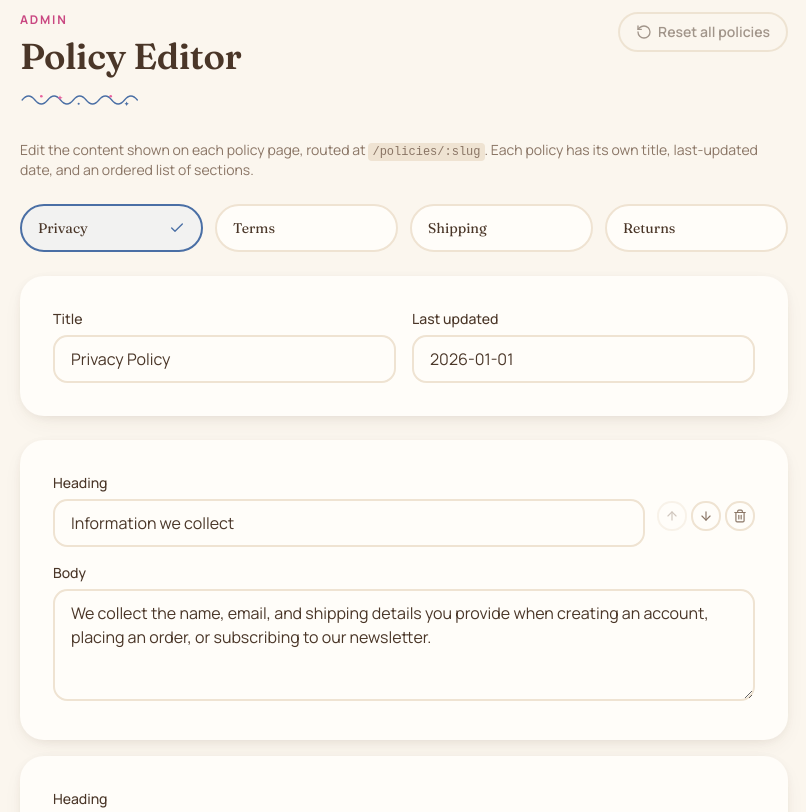
Test case: PolicyEditor › blocks saving a policy with zero sections
The width and height of the screenshot is (806, 812).
Click the button named "Remove Information we collect" at (740,516), box x1=725 y1=501 x2=755 y2=531
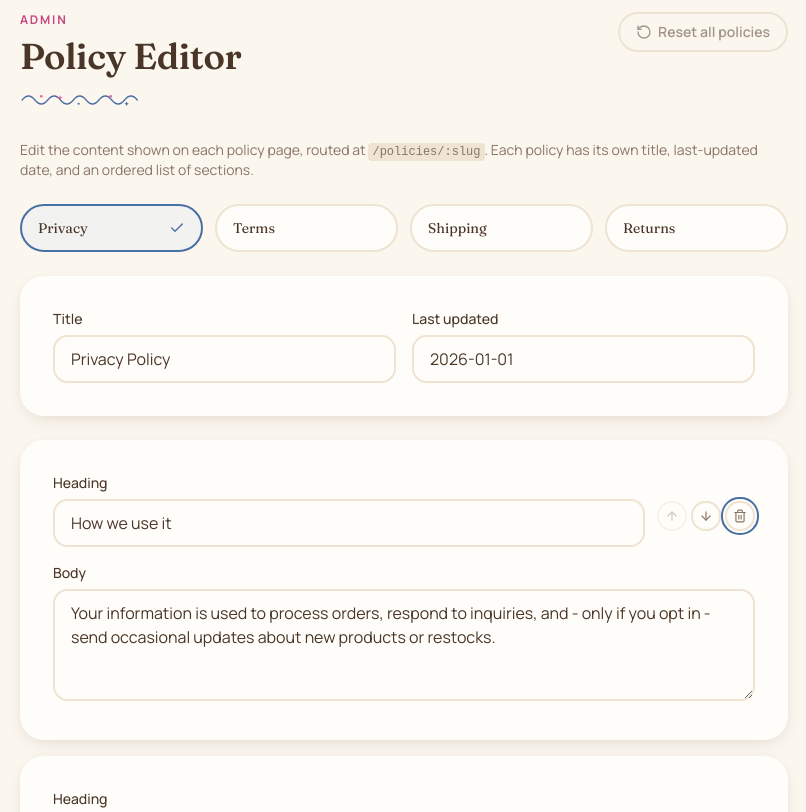
Click the button named "Remove How we use it" at (740,516), box x1=725 y1=501 x2=755 y2=531
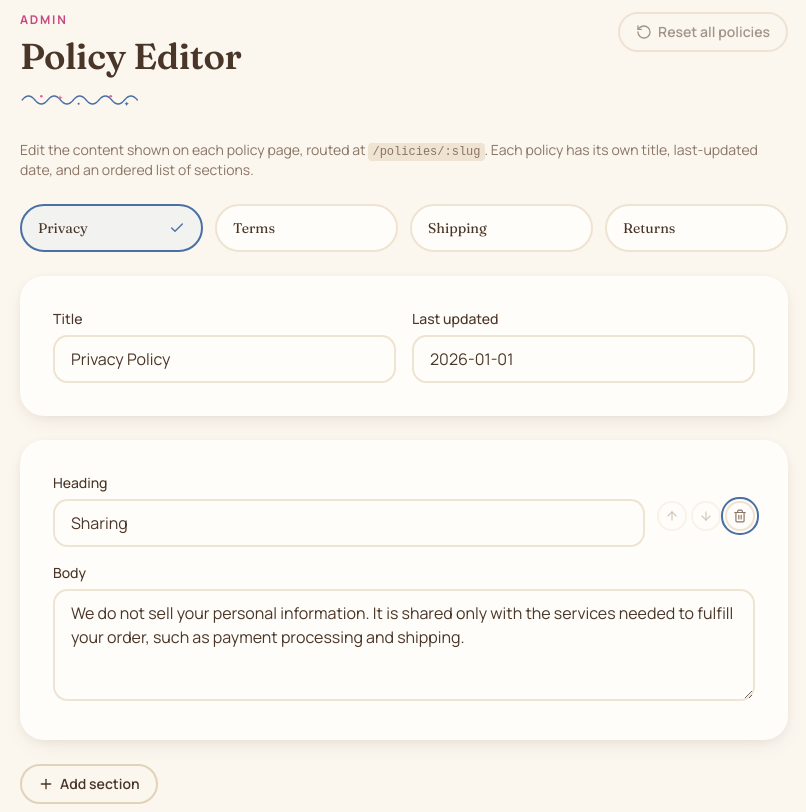
Click the button named "Remove Sharing" at (740,516), box x1=725 y1=501 x2=755 y2=531
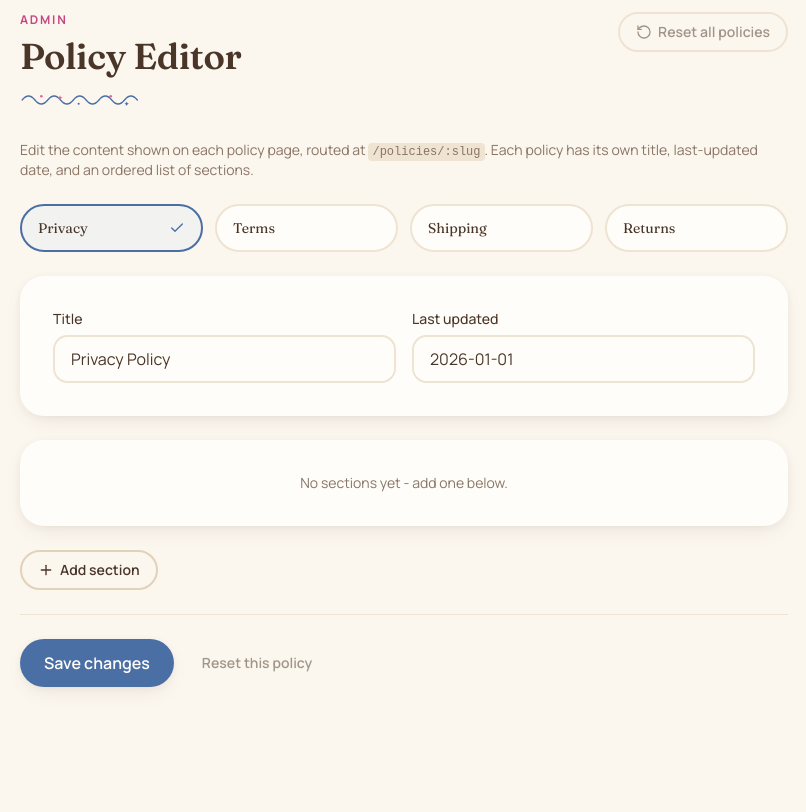
Click the button "Save changes" at (97,663), box x1=20 y1=639 x2=174 y2=687
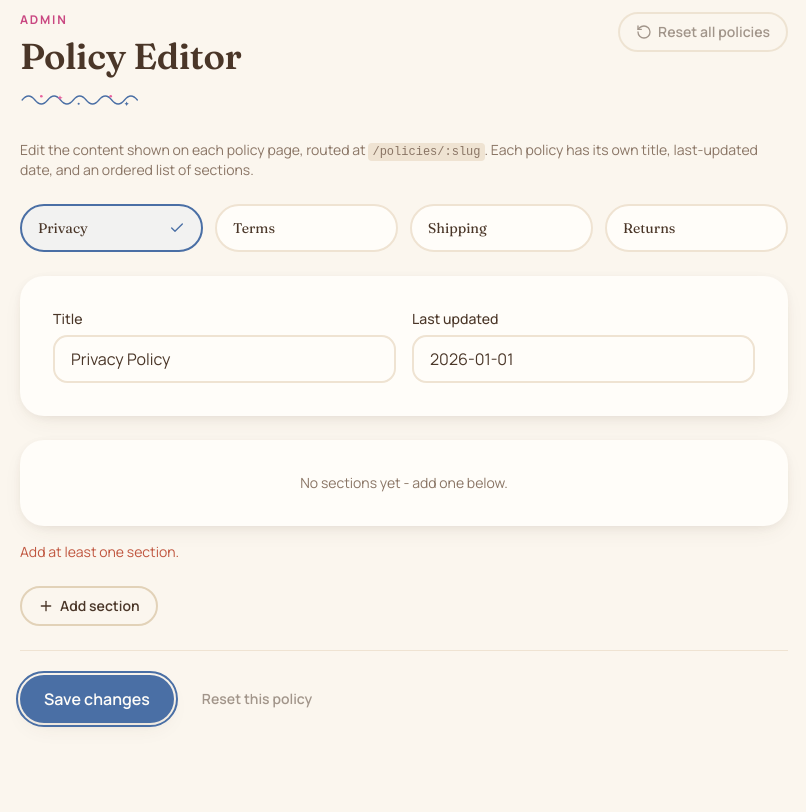
Result: the text "Add at least one section." is shown at x1=20 y1=542 x2=179 y2=561
